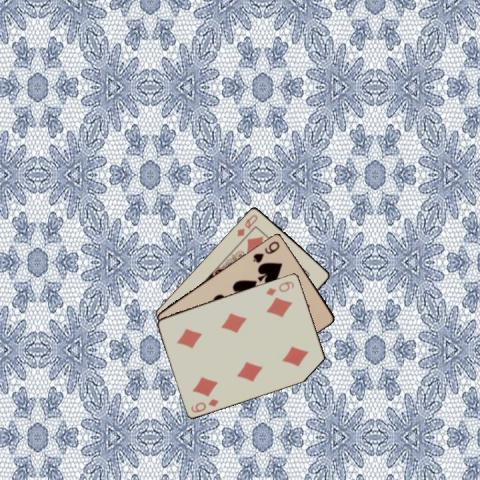6d: (263, 278, 295, 297), (188, 395, 220, 414)
9s: (250, 238, 281, 264)
Qd: (234, 211, 260, 238)
